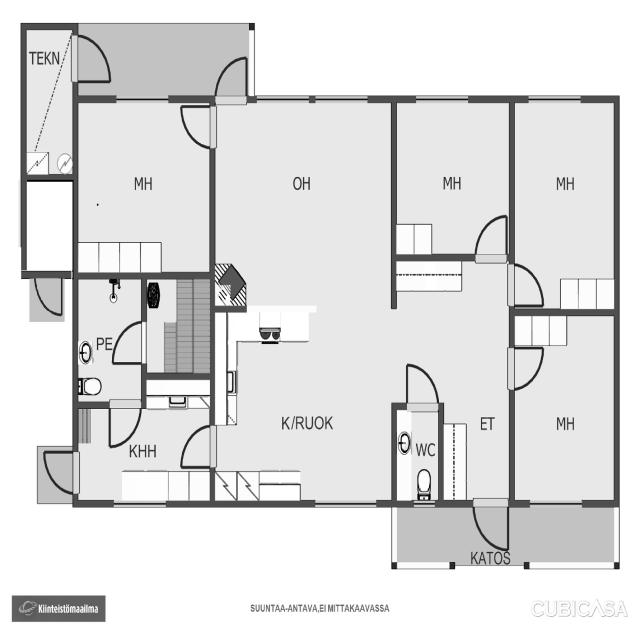door: (68, 32, 120, 88), (398, 361, 441, 414), (102, 396, 144, 450), (213, 49, 249, 106), (503, 341, 545, 389), (35, 446, 74, 497), (508, 259, 546, 310), (470, 212, 510, 260), (110, 316, 148, 366), (173, 425, 214, 469), (176, 101, 214, 148), (29, 273, 61, 316)
window: (248, 91, 369, 112), (526, 83, 585, 108), (304, 496, 386, 512), (406, 88, 473, 106), (108, 494, 170, 510)
zone: (213, 95, 393, 304), (210, 304, 394, 508), (79, 98, 212, 279), (514, 98, 617, 312), (512, 308, 612, 507), (393, 93, 512, 255), (74, 274, 146, 405), (24, 23, 75, 178), (143, 281, 210, 383), (23, 181, 77, 275), (394, 404, 439, 506)
